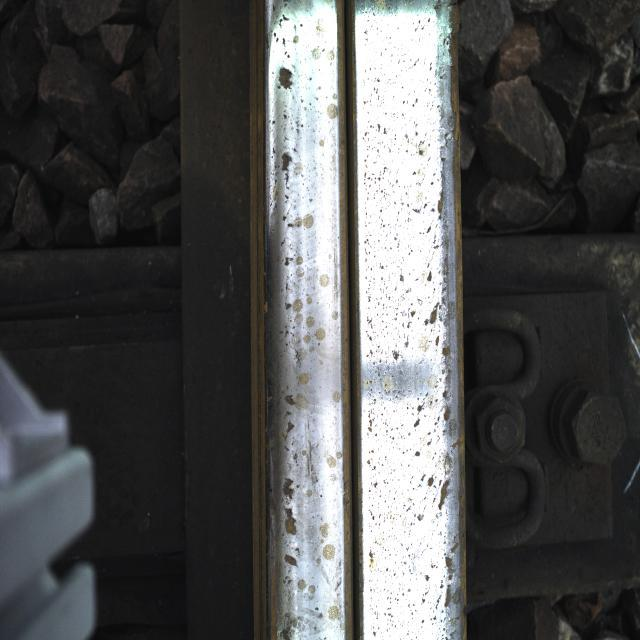scar: (270, 15, 340, 617), (369, 85, 450, 573)
